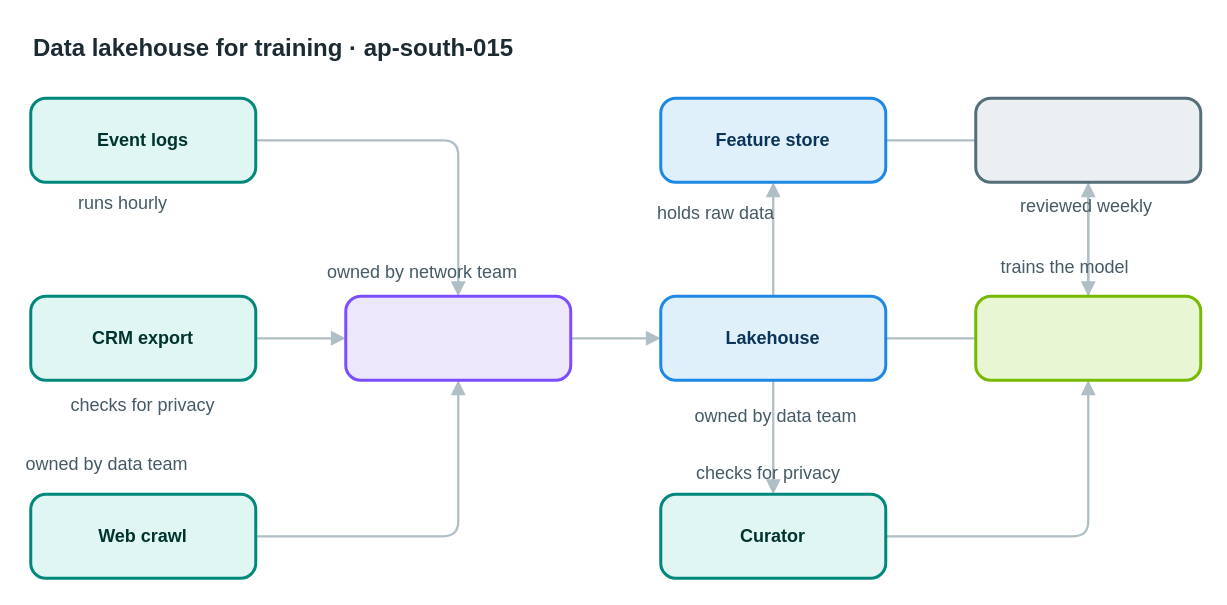
Some shapes in this 1227 by 605 pixel diagram are drawn without their labels. Each missing label, with the centre of its shape:
Dashboards: (x=1088, y=139)
Stream bus: (x=458, y=337)
Training jobs: (x=1088, y=337)
